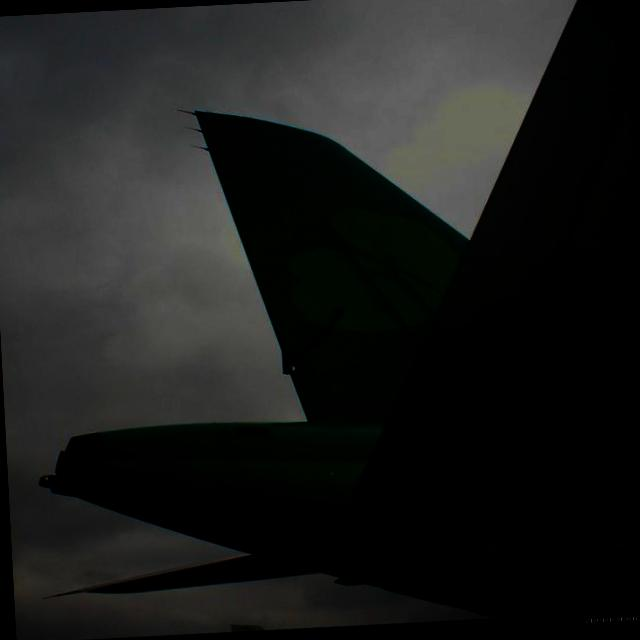crack: (276, 300, 350, 376)
